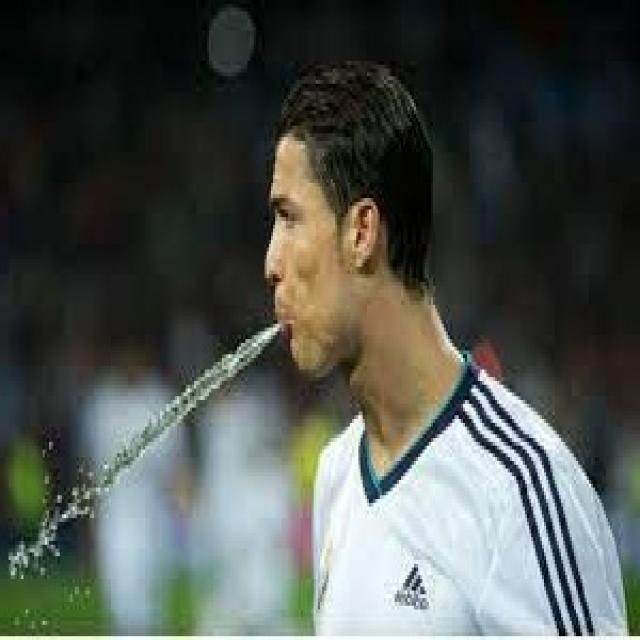Spitting: (228, 58, 435, 478)
